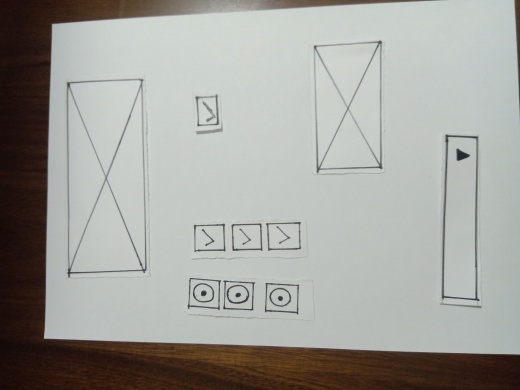checkbox: (196, 97, 223, 127), (195, 227, 226, 248), (269, 224, 300, 245), (232, 228, 263, 249)
dropdown: (445, 135, 483, 304)
img: (67, 84, 145, 270), (315, 43, 383, 176)
radio: (189, 278, 220, 307), (268, 283, 299, 312), (223, 280, 254, 309)
